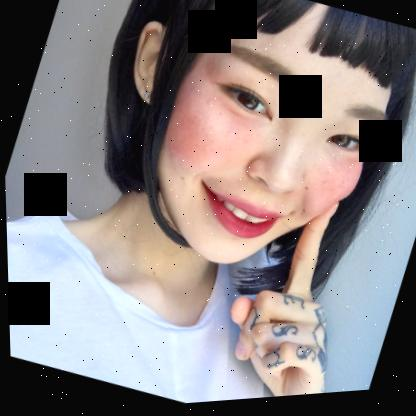Female: (75, 0, 414, 309)
